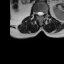CCS_normal: (39, 9, 41, 19)
LFS_stenosis: (44, 9, 46, 16)
LLS_normal: (41, 9, 44, 17)
RFS_normal: (35, 9, 37, 15)
RLS_normal: (37, 9, 39, 17)
